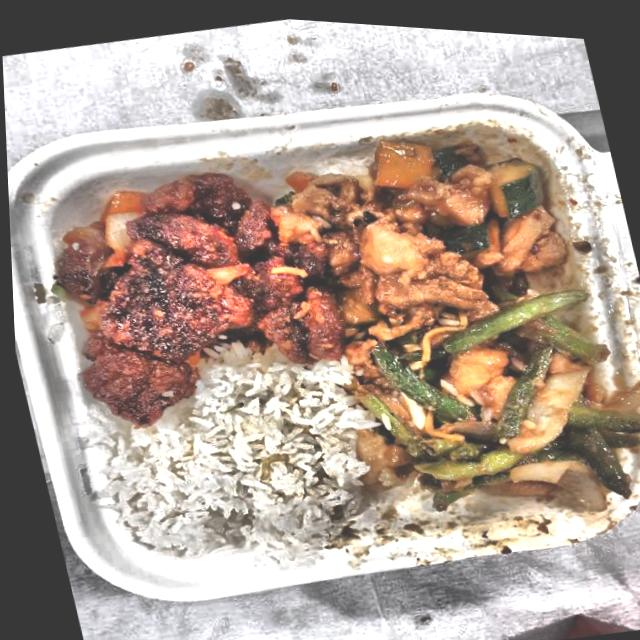Food: (26, 134, 358, 446), (281, 91, 593, 360), (349, 268, 640, 531), (91, 348, 390, 591)
